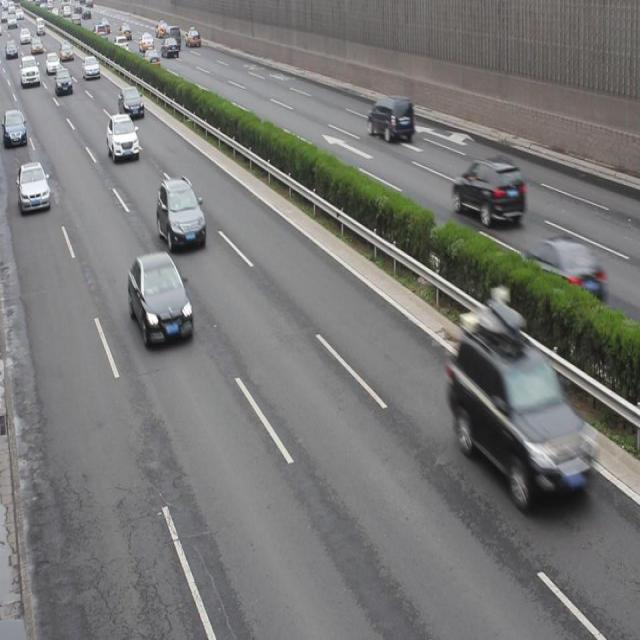car: (448, 301, 584, 507), (513, 233, 605, 310), (129, 252, 193, 349), (449, 155, 525, 225), (157, 174, 205, 250), (365, 92, 415, 144), (17, 160, 50, 217), (106, 111, 141, 164), (118, 84, 145, 122), (4, 107, 28, 148)
